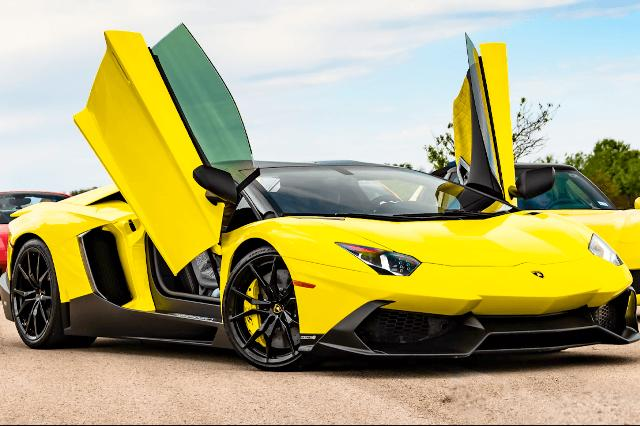lamborghini: (0, 22, 640, 369)
